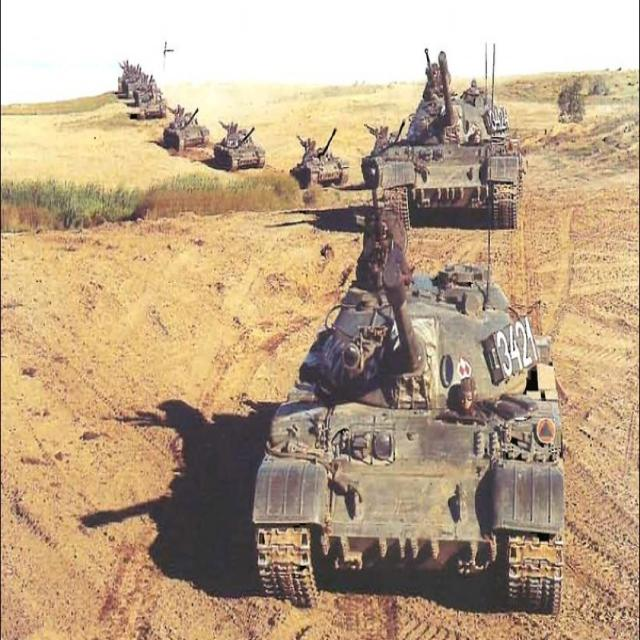tank: (240, 245, 572, 622), (364, 47, 526, 230), (291, 126, 354, 192), (212, 114, 268, 174), (164, 100, 212, 161)
